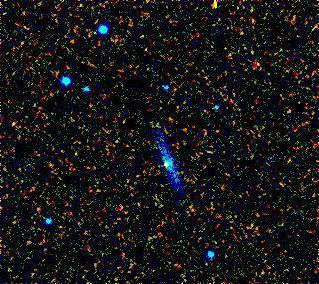star: (146, 147, 176, 177)
